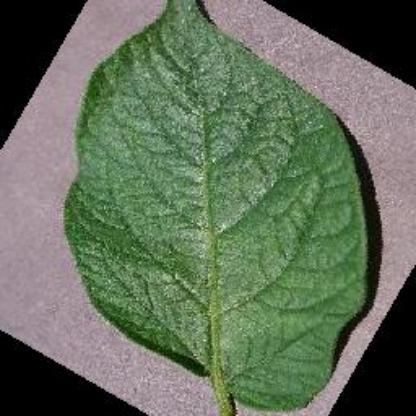Healthy-plant: (62, 0, 383, 414)
